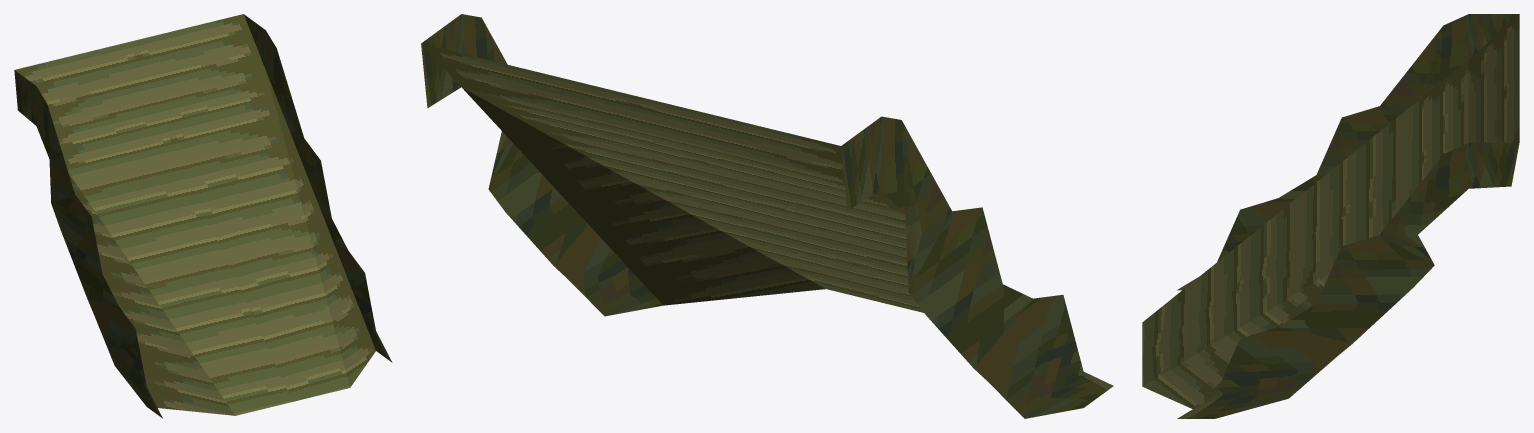
The picture shows the model from 3 angles, left to right: view 1: azimuth 30°, elevation 25°; view 2: azimuth 150°, elevation 25°; view 3: azimuth 270°, elevation 25°; orthographic projection. The views are drawn at different scales.
Visible parts, largest first — view 1: polygon0; view 2: polygon0; view 3: polygon0.
Boxes of the visible parts, x1,y1,x2,y2 form: polygon0: (14,14,392,418); polygon0: (421,14,1113,418); polygon0: (1142,14,1519,418).
Size of the model in its own units: 6 by 6 by 7.42.
1 material, 1 textured.
